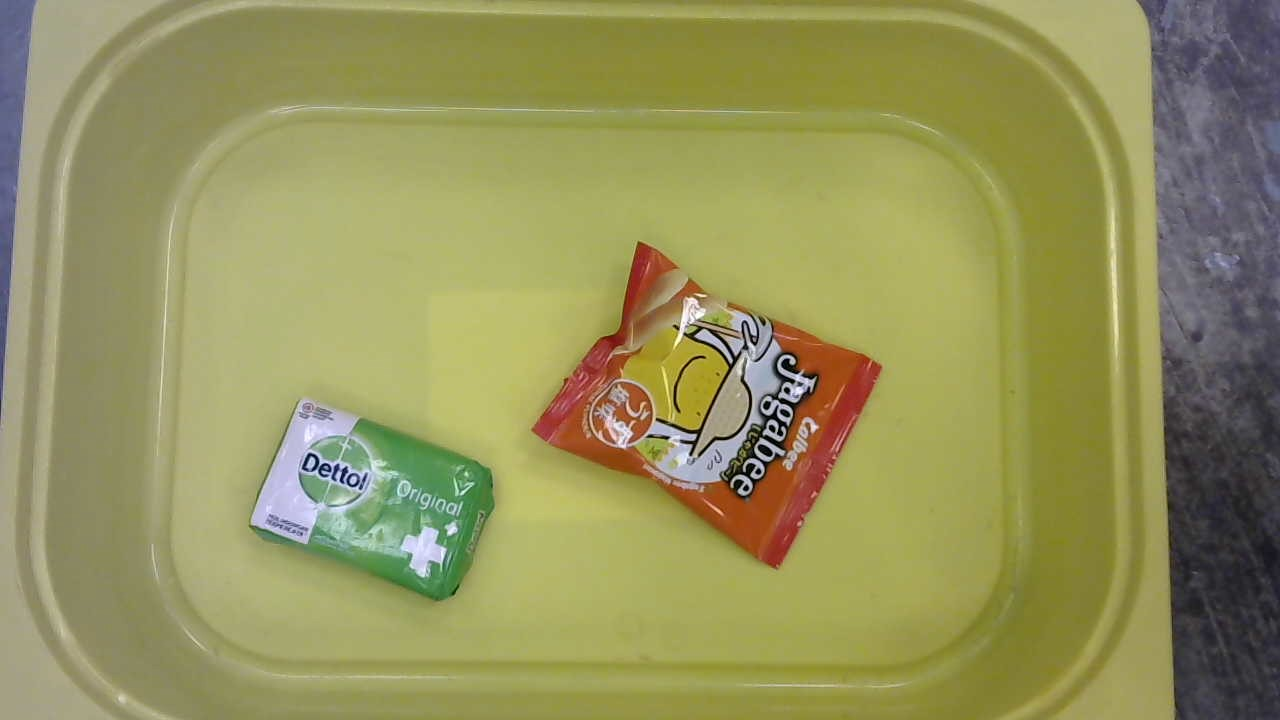Dettol: (249, 395, 503, 608)
JagabeeFarmer: (528, 238, 884, 574)
